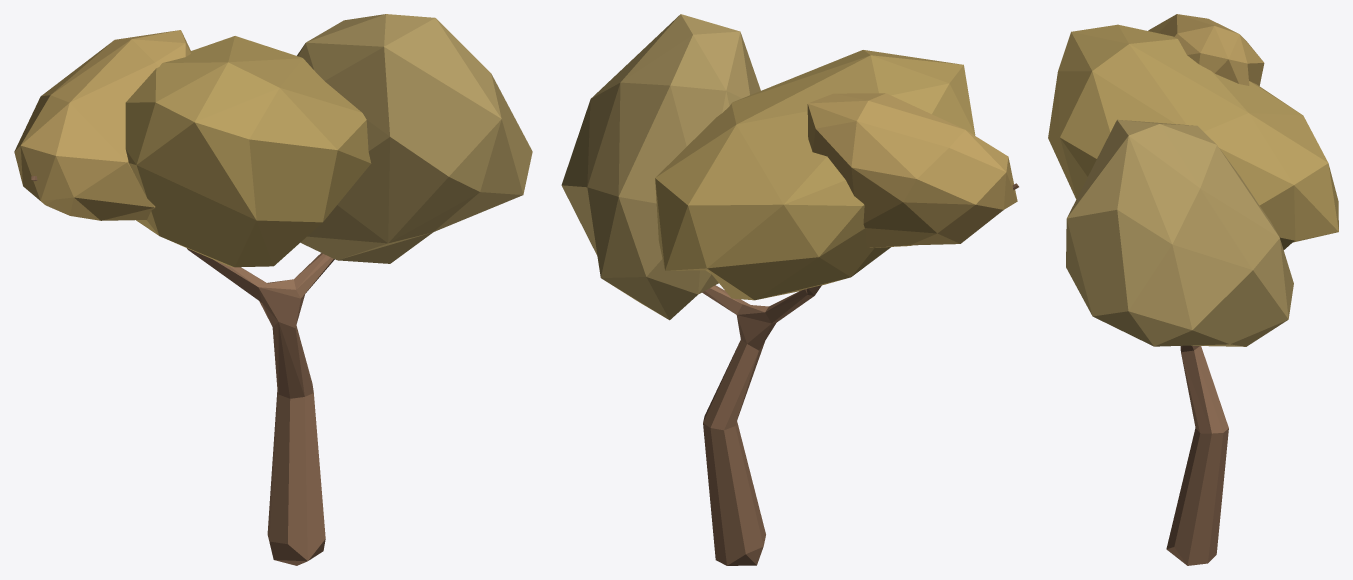
Rendered from tree10.fbx.
3 views of the same model, side by side, from view 1: azimuth 30°, elevation 25°; view 2: azimuth 150°, elevation 25°; view 3: azimuth 270°, elevation 25° (orthographic). The views are drawn at different scales.
Parts seen in each view (by area): view 1: Sphere.023; view 2: Sphere.023; view 3: Sphere.023.
Part boxes in pixels (<box>): Sphere.023: <box>14,14,532,565</box>; Sphere.023: <box>561,14,1018,565</box>; Sphere.023: <box>1048,14,1338,565</box>.
Size of the model in its own units: 559 by 613 by 340.
Materials: 1 (1 with a texture image).
